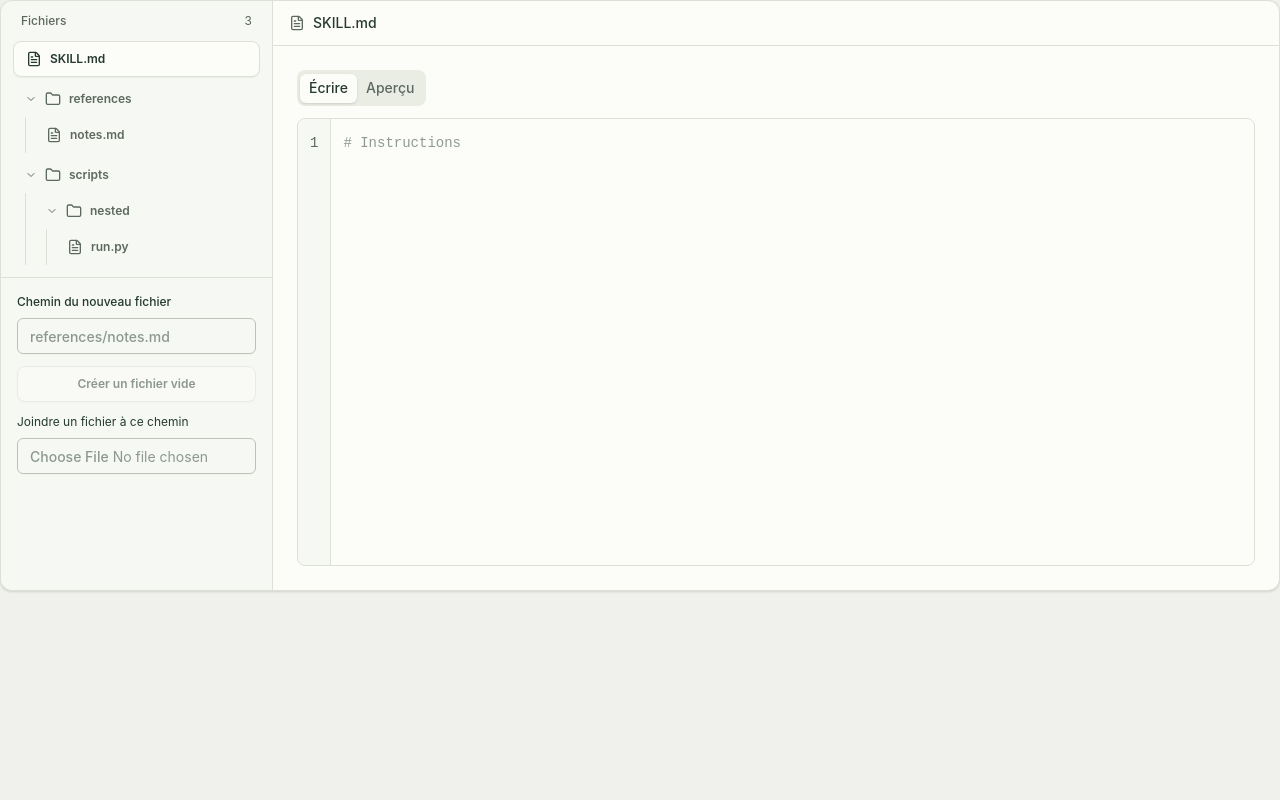
Scenario: Skill file workspace › keeps navigation available and all mutations disabled
Click the button with aria-label "scripts/nested/run.py" at (158, 247), box [55, 229, 260, 265]
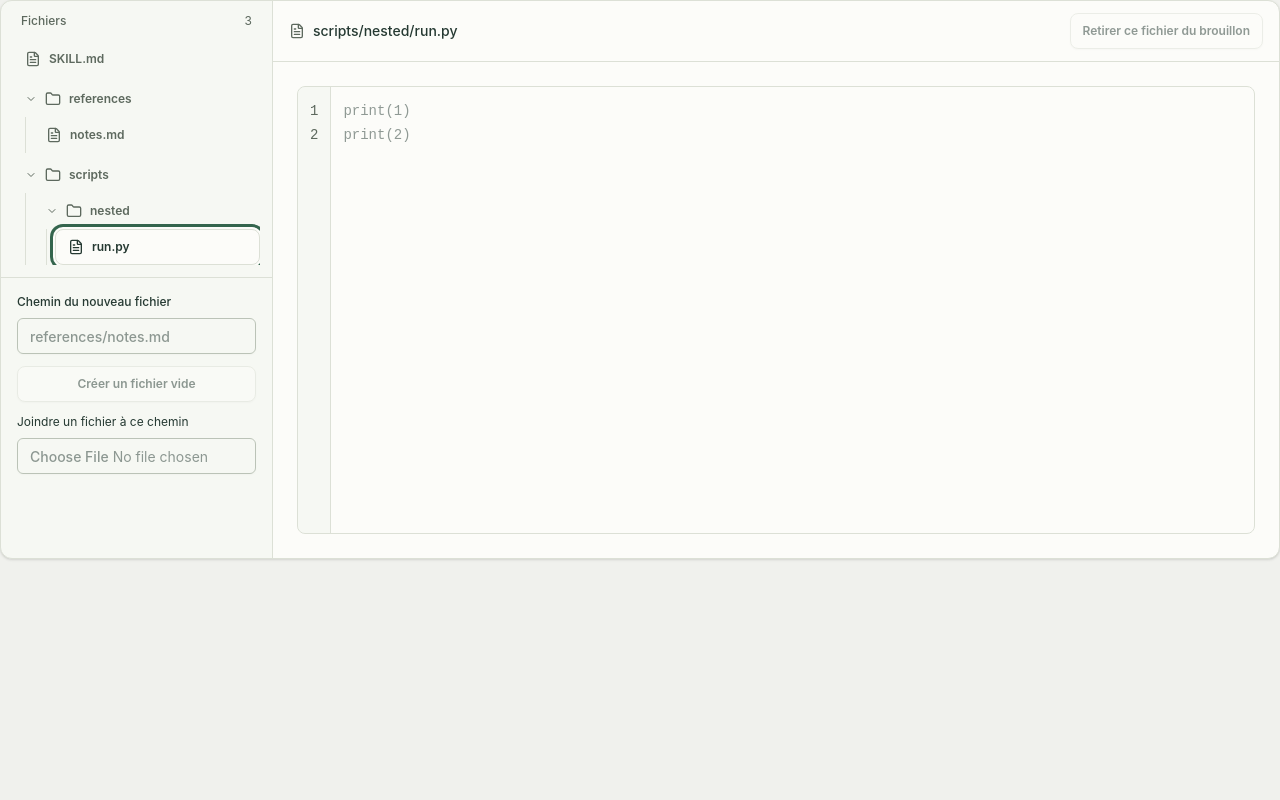
Expected: the button "Créer un fichier vide" is disabled, [17, 366, 256, 402]
Expected: the text box named "Contenu de scripts/nested/run.py" is disabled, [331, 87, 1254, 533]
Expected: the button "Retirer ce fichier du brouillon" is disabled, [1070, 13, 1263, 49]
